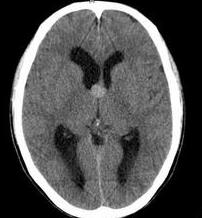Normal_Brain: (1, 2, 202, 218)
